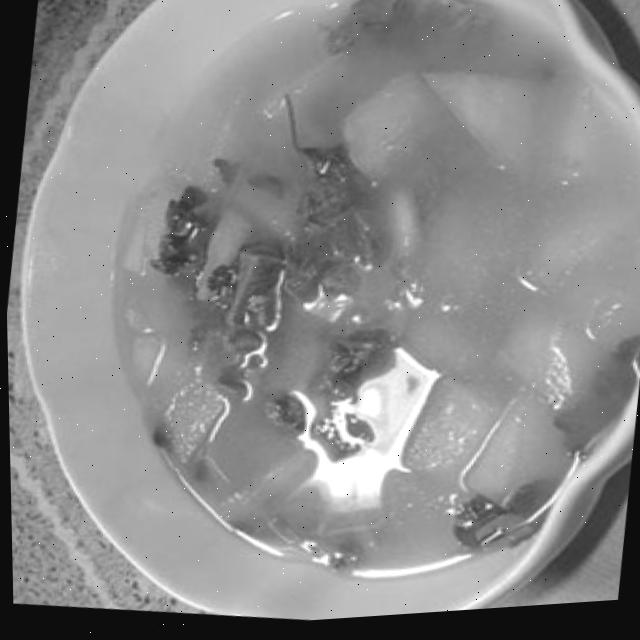汤锅炖物: (35, 0, 640, 624)
